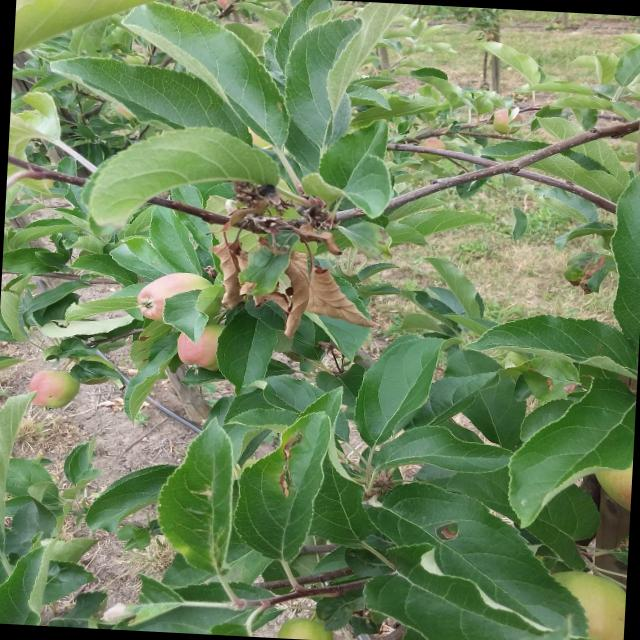-FireBlight-: (206, 178, 380, 338)
